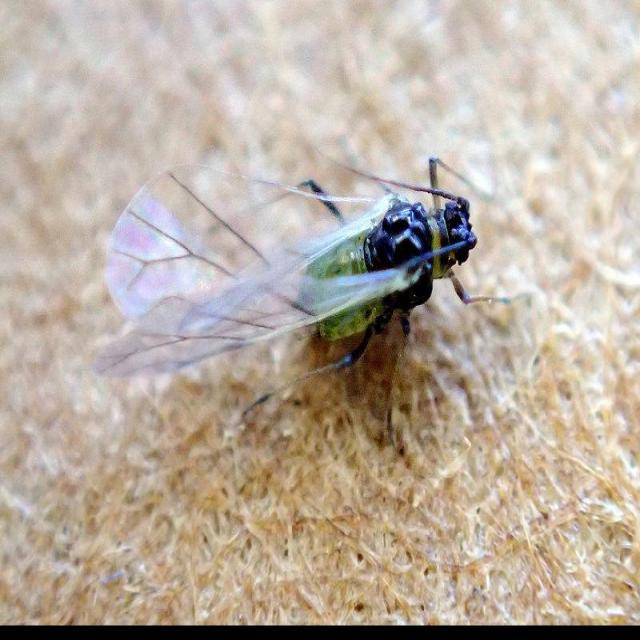Aphids: (136, 126, 501, 429)
